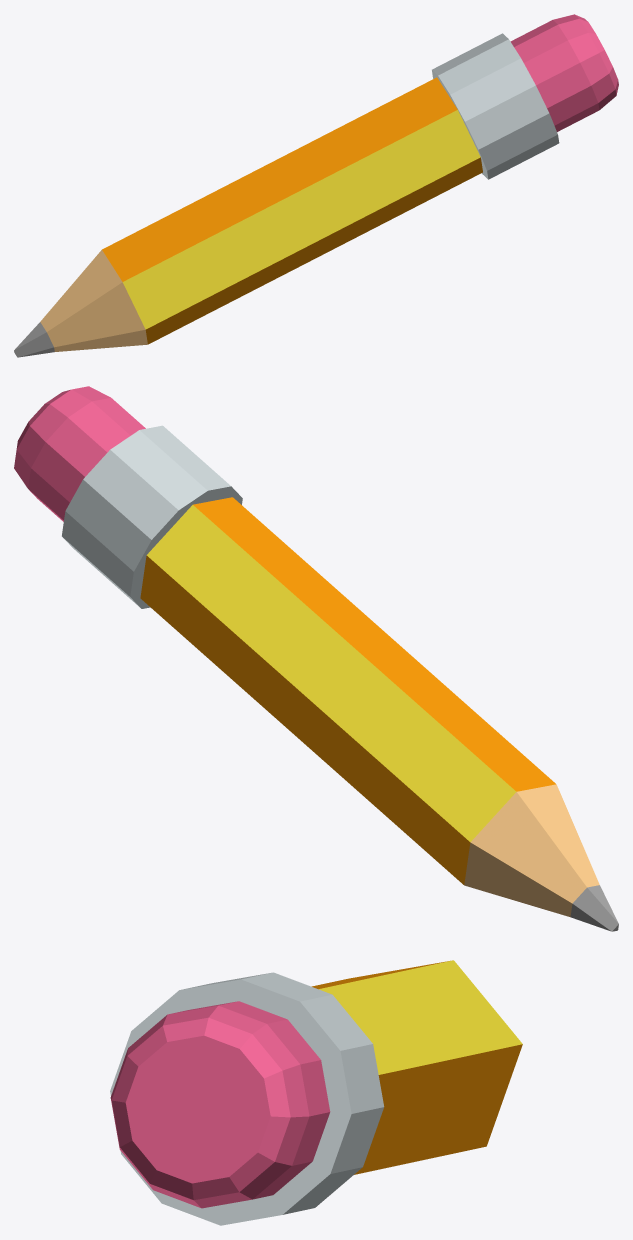
The model's file is group1564940181_lev3.004.glb.
The picture shows the model from 3 angles, top to bottom: view 1: azimuth 30°, elevation 25°; view 2: azimuth 150°, elevation 25°; view 3: azimuth 270°, elevation 25°; orthographic projection. The views are drawn at different scales.
Parts seen in each view (by area): view 1: group1564940181_lev3.004; view 2: group1564940181_lev3.004; view 3: group1564940181_lev3.004.
Part boxes in pixels (left/top/right/bottom): group1564940181_lev3.004: left=14, top=14, right=618, bottom=357; group1564940181_lev3.004: left=14, top=386, right=618, bottom=931; group1564940181_lev3.004: left=110, top=960, right=522, bottom=1225.
Bounding box in the file's own units: 2.33 × 1.1 × 0.7802.
